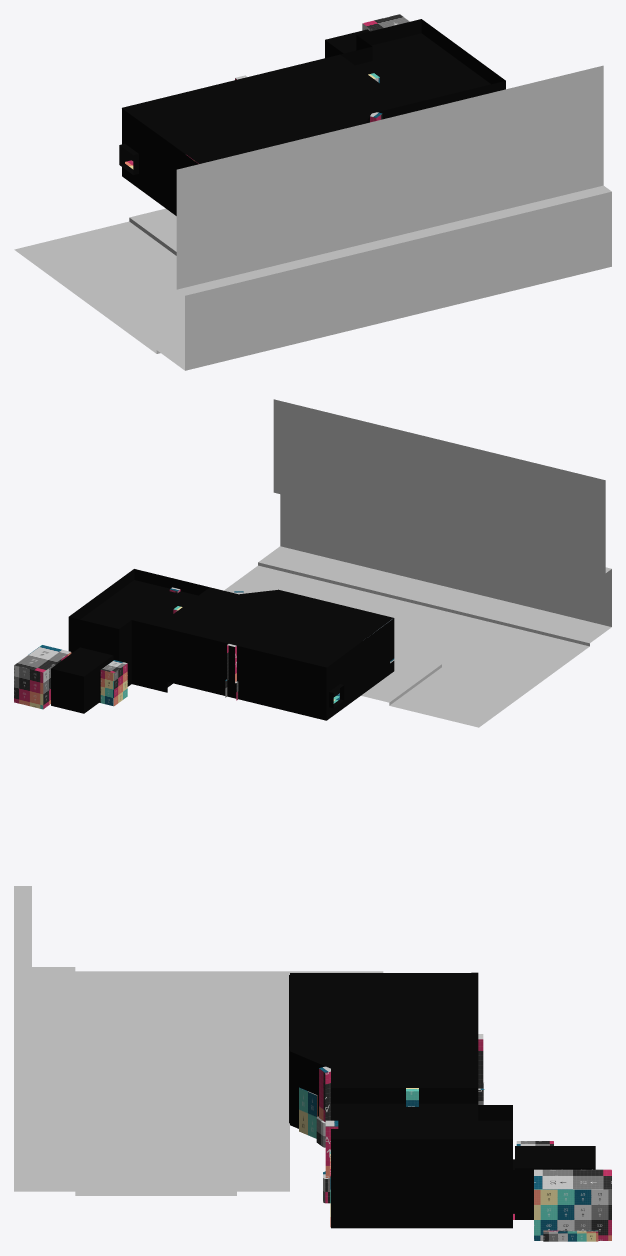
File: level_blockout_01.fbx
The picture shows the model from 3 angles, top to bottom: view 1: azimuth 30°, elevation 25°; view 2: azimuth 150°, elevation 25°; view 3: azimuth 270°, elevation 25°; orthographic projection. The views are drawn at different scales.
Visible parts, largest first — view 1: building, roof, road, wall_1, polySurface1, wall_7, wall_6, wall_4; view 2: building, road, roof, wall_4, polySurface1, wall_1, bathroom_walls, cupboard_walls, bathroom_roof, wall_6, wall_7; view 3: road, roof, wall_7, building, bathroom_walls, polySurface1, bathroom_roof, wall_3, pillar_4, front_door, sink.
Part boxes in pixels (box(x1,y1,x2,y2)): building: box(176, 65, 611, 370); roof: box(122, 33, 490, 163); road: box(14, 208, 184, 370); wall_1: box(119, 108, 198, 215); polySurface1: box(325, 19, 421, 57); wall_7: box(421, 19, 505, 84); wall_6: box(402, 81, 505, 114); wall_4: box(125, 35, 372, 161); building: box(273, 399, 611, 626); road: box(224, 546, 611, 727); roof: box(80, 580, 393, 667); wall_4: box(119, 620, 326, 720); polySurface1: box(51, 617, 119, 713); wall_1: box(326, 618, 394, 720); bathroom_walls: box(14, 652, 71, 709); cupboard_walls: box(100, 663, 127, 706); bathroom_roof: box(14, 645, 70, 672); wall_6: box(134, 569, 209, 595); wall_7: box(69, 569, 134, 619); road: box(14, 967, 383, 1195); roof: box(290, 972, 512, 1139); wall_7: box(331, 1139, 512, 1228); building: box(14, 886, 31, 1110); bathroom_walls: box(534, 1189, 611, 1240); polySurface1: box(513, 1146, 595, 1219); bathroom_roof: box(534, 1169, 611, 1189); wall_3: box(290, 1051, 325, 1128); pillar_4: box(316, 1066, 330, 1147); front_door: box(299, 1087, 317, 1138); sink: box(543, 1230, 598, 1241).
Size of the model in its own units: 3037 by 1238 by 2958.
